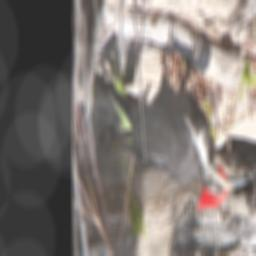Woodpecker: (94, 21, 251, 214)
